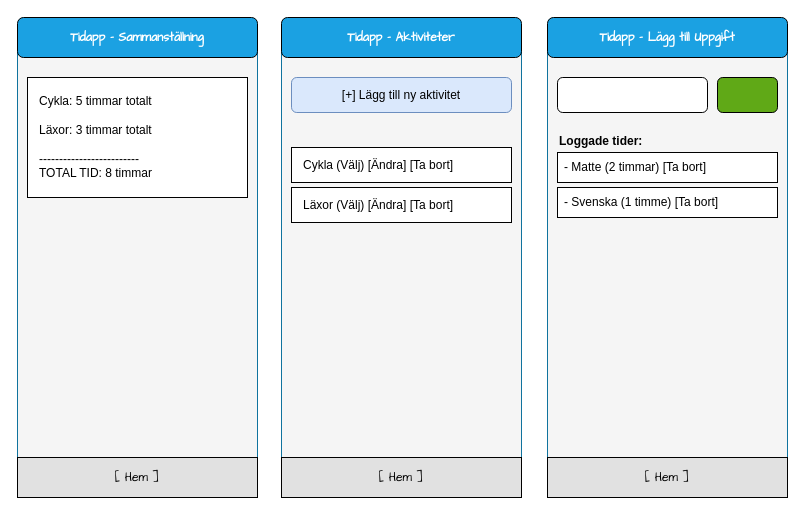
This 805x515 diagram has some shape labels left out. Here are the shapes that lost their labels. From the top down, the centre of each, then its label:
(x=632, y=94): Vad har du gjort?
(x=747, y=94): Spara
